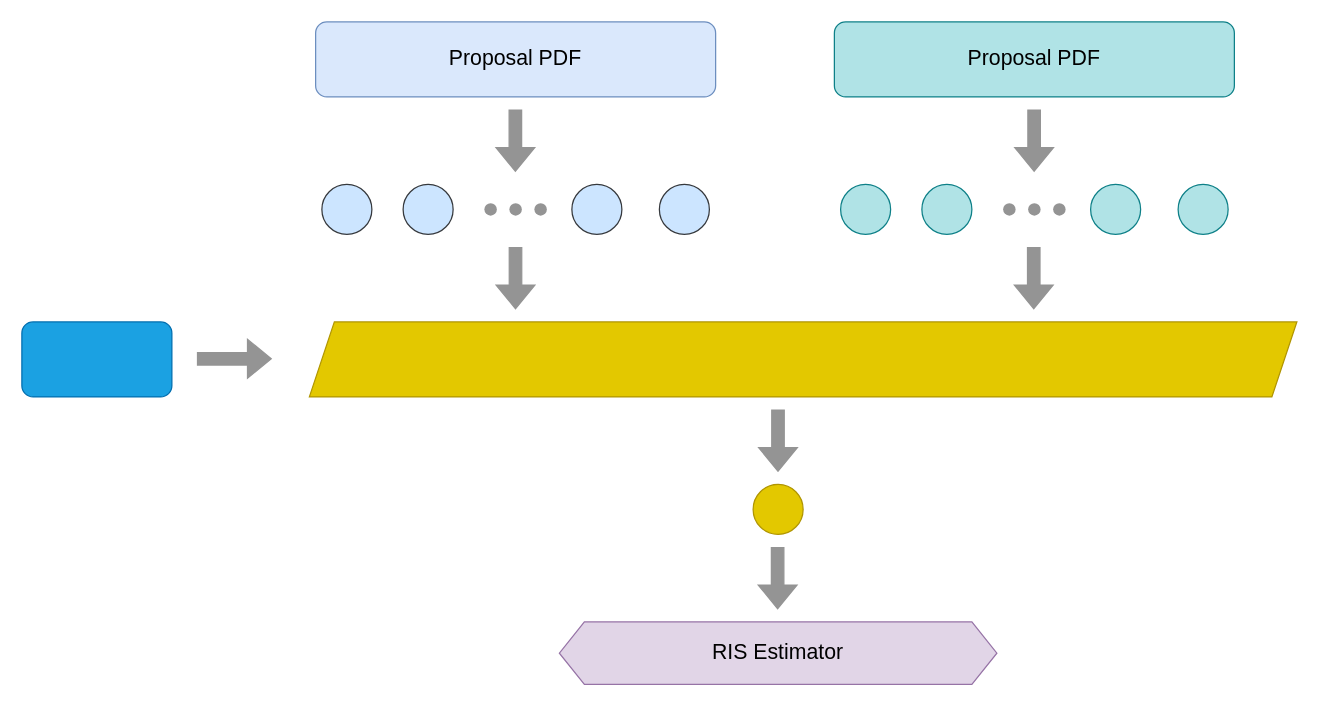
Some shapes in this 1319 by 706 pixel diagram are drawn without their labels. Each missing label, with the centre of its shape:
"Picking a target sample from proposal sample set" goes at point 802,359.
"Target Function" goes at point 96,359.
